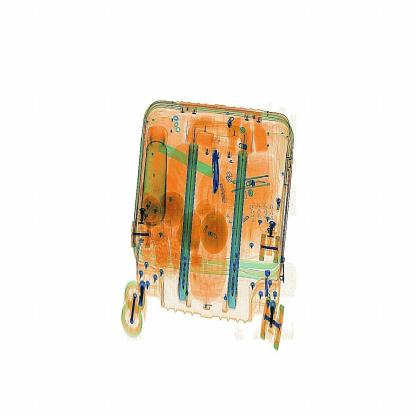knife: (203, 144, 230, 203)
